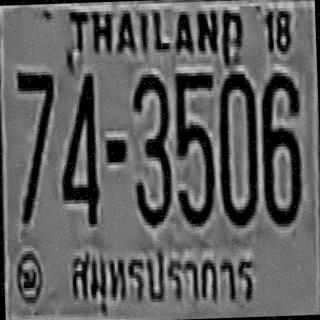N00: (216, 69, 258, 224)
N03: (131, 70, 170, 226)
N04: (57, 68, 99, 223)
N05: (172, 69, 216, 224)
N06: (258, 69, 301, 224)
N07: (15, 68, 58, 223)
P57: (65, 240, 259, 320)
